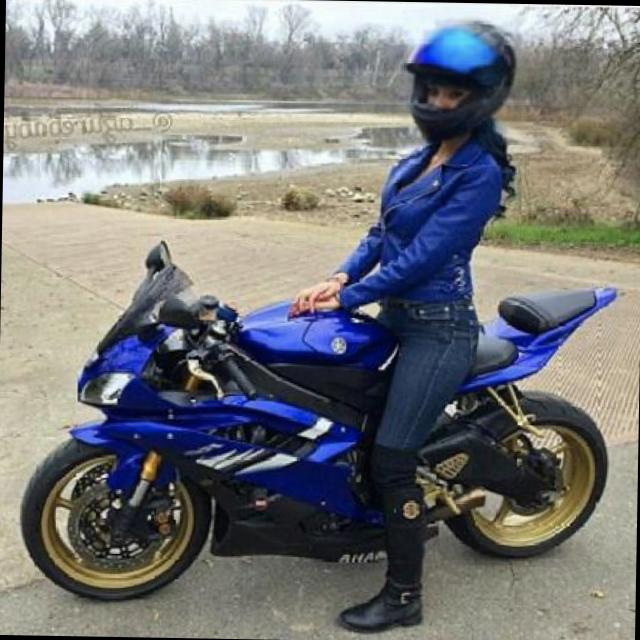With Helmet: (400, 15, 526, 146)
